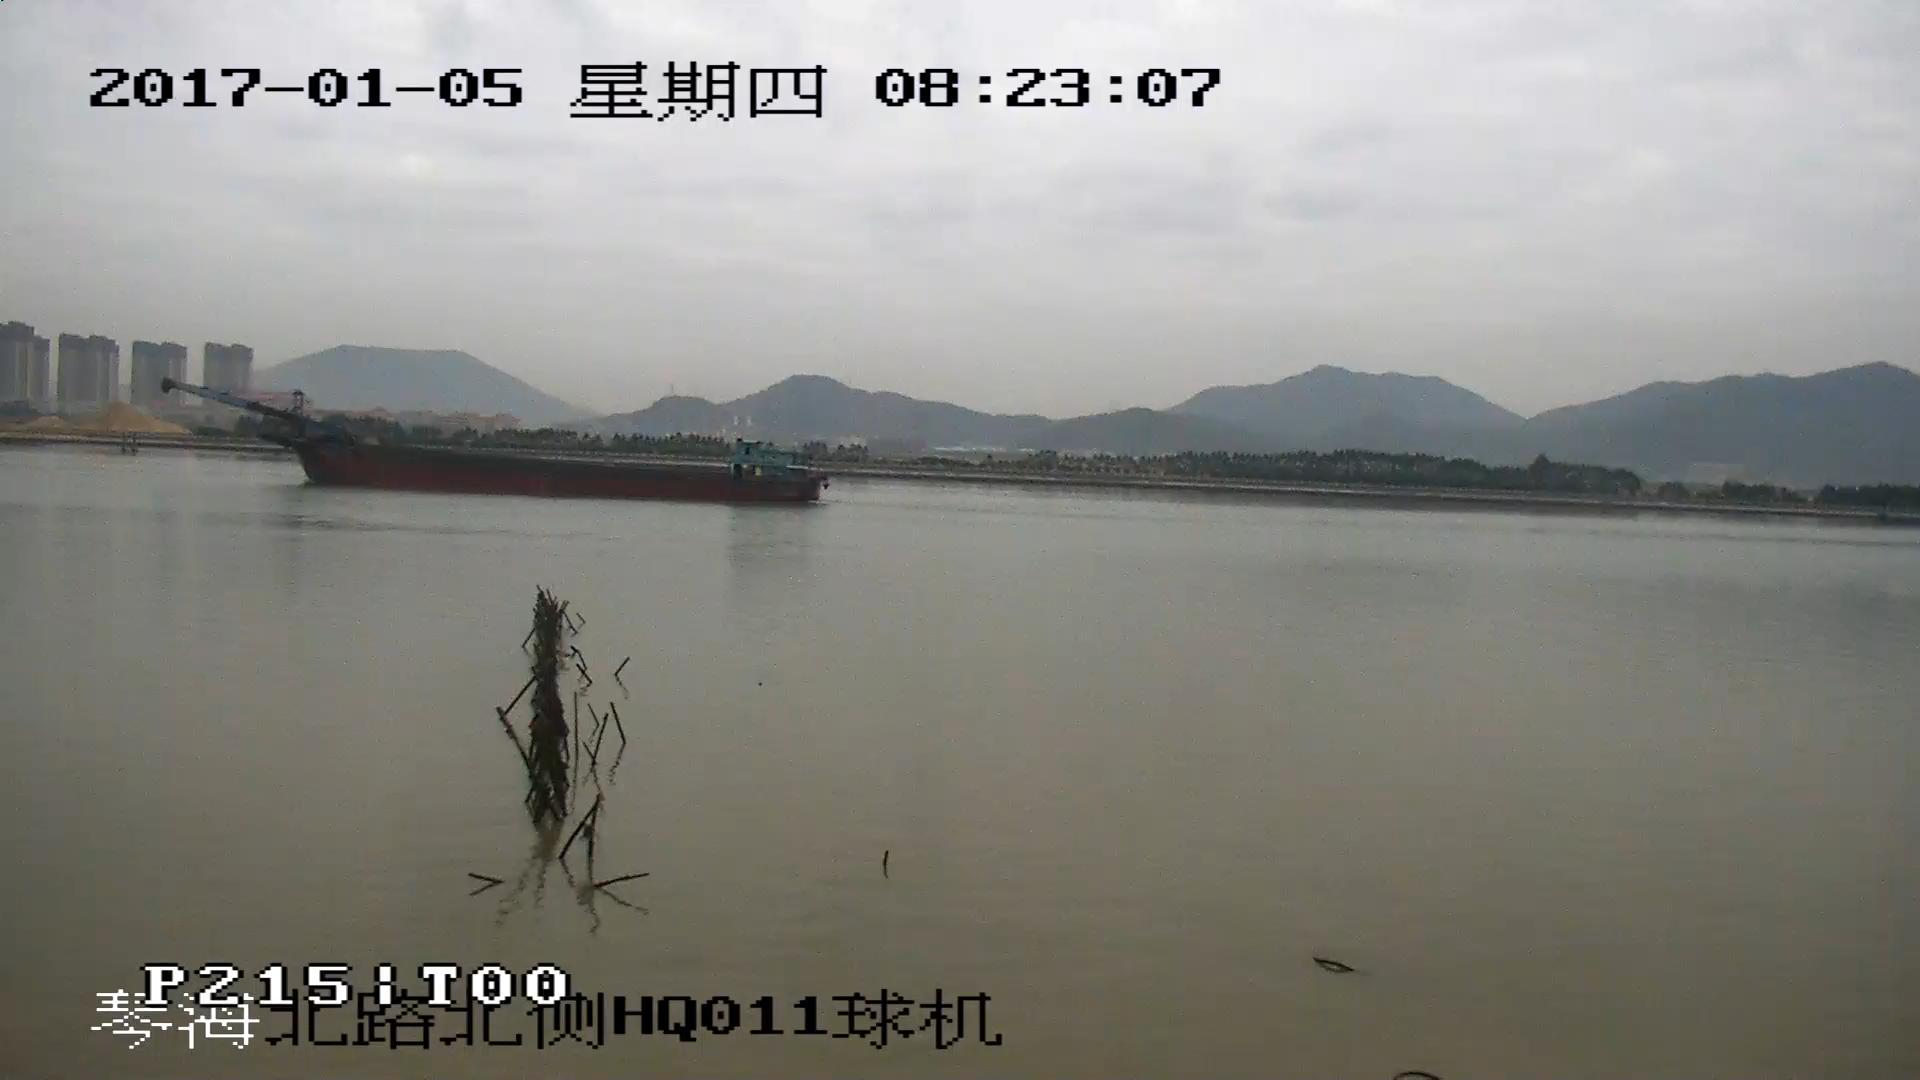Ship: (167, 380, 833, 502)
